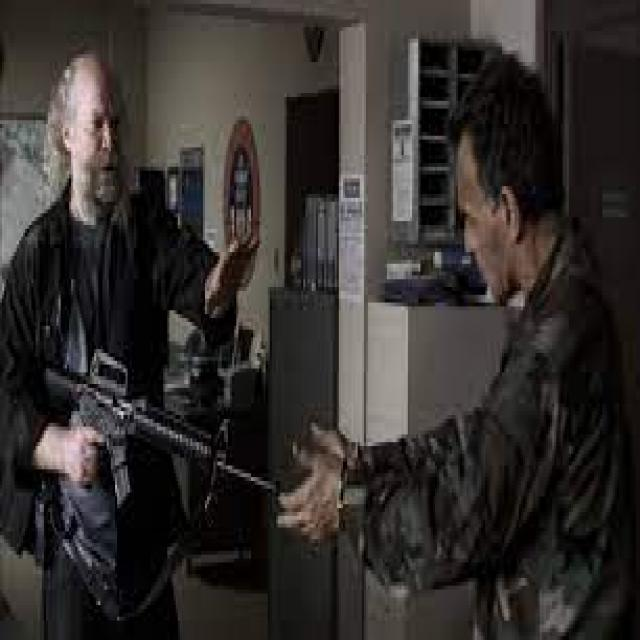m16: (38, 312, 290, 584)
